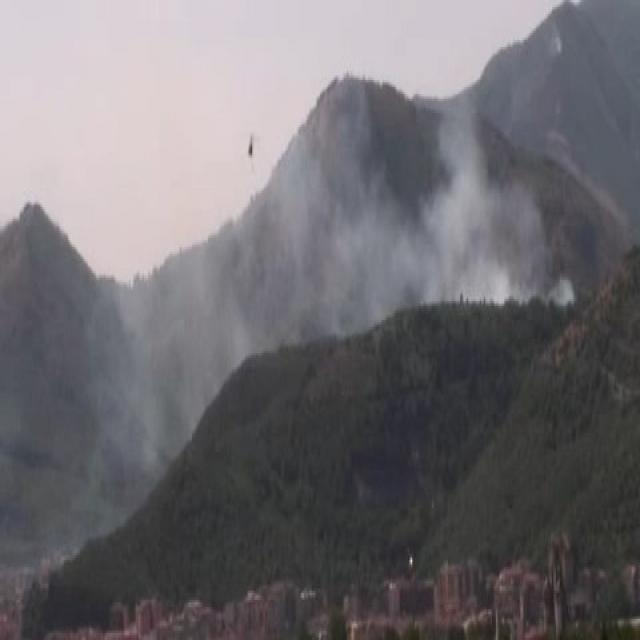smoke: (326, 97, 548, 308)
